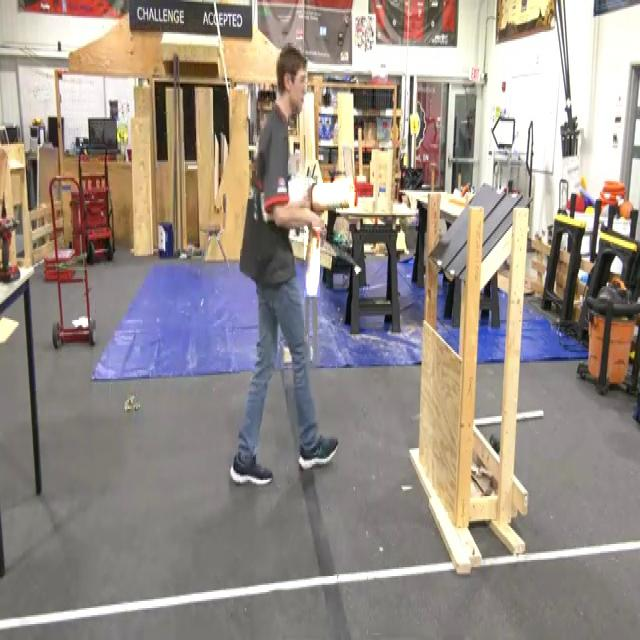Coral: (311, 178, 356, 212), (304, 227, 320, 297)
